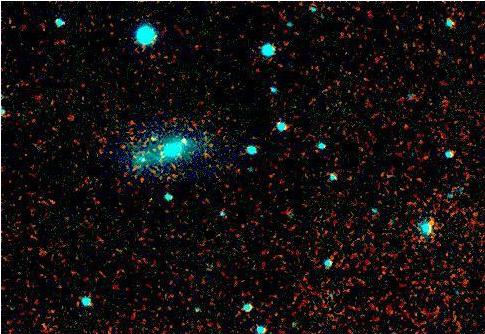star: (170, 125, 200, 155)
